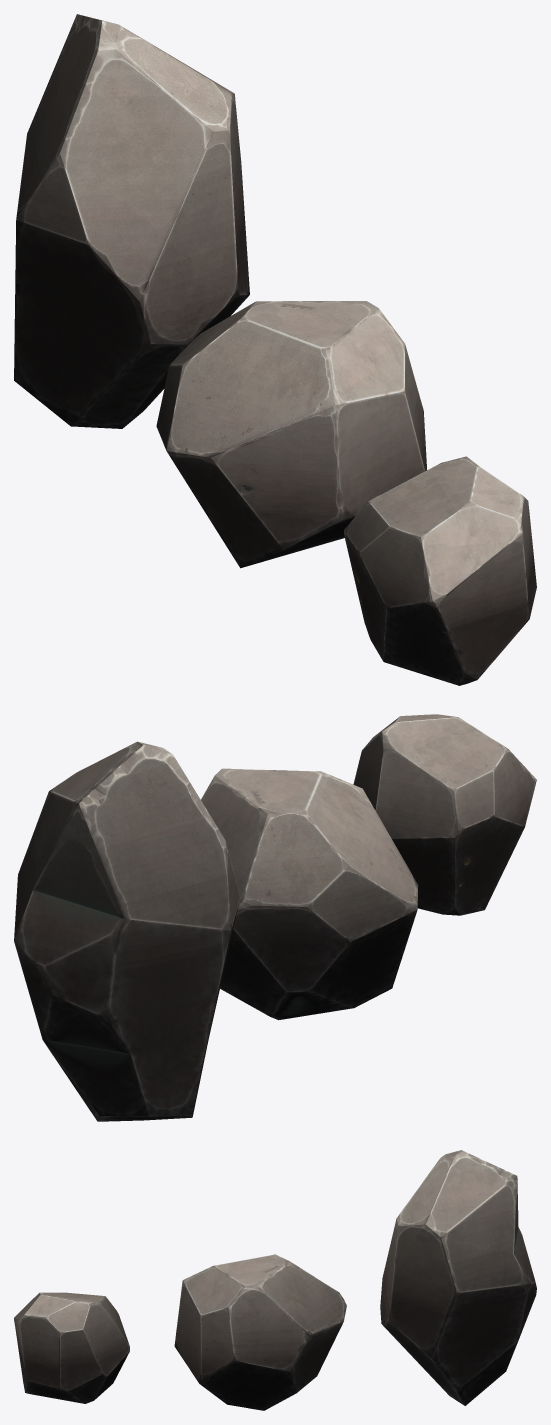
File: rocksCollectable.fbx
The picture shows the model from 3 angles, top to bottom: view 1: azimuth 30°, elevation 25°; view 2: azimuth 150°, elevation 25°; view 3: azimuth 270°, elevation 25°; orthographic projection. The views are drawn at different scales.
Visible parts, largest first — view 1: L_Rock_02, M_Rock_02, S_Rock_02; view 2: L_Rock_02, M_Rock_02, S_Rock_02; view 3: L_Rock_02, M_Rock_02, S_Rock_02.
Boxes of the visible parts, x1,y1,x2,y2 form: L_Rock_02: (14,14,249,428); M_Rock_02: (156,301,426,568); S_Rock_02: (344,456,536,685); L_Rock_02: (14,741,240,1121); M_Rock_02: (201,768,418,1020); S_Rock_02: (353,714,536,915); L_Rock_02: (380,1150,536,1405); M_Rock_02: (174,1254,346,1410); S_Rock_02: (14,1292,129,1403).
Bounding box in the file's own units: 173 × 270 × 525.
